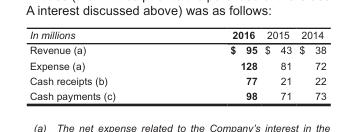table: (28, 28, 325, 101)
table column: (28, 28, 172, 101), (172, 28, 260, 101), (260, 28, 294, 101), (294, 28, 325, 101)
table column header: (28, 28, 325, 42)
table row: (28, 72, 325, 88), (28, 42, 325, 57), (28, 57, 325, 72), (28, 28, 325, 42), (28, 88, 325, 101)
